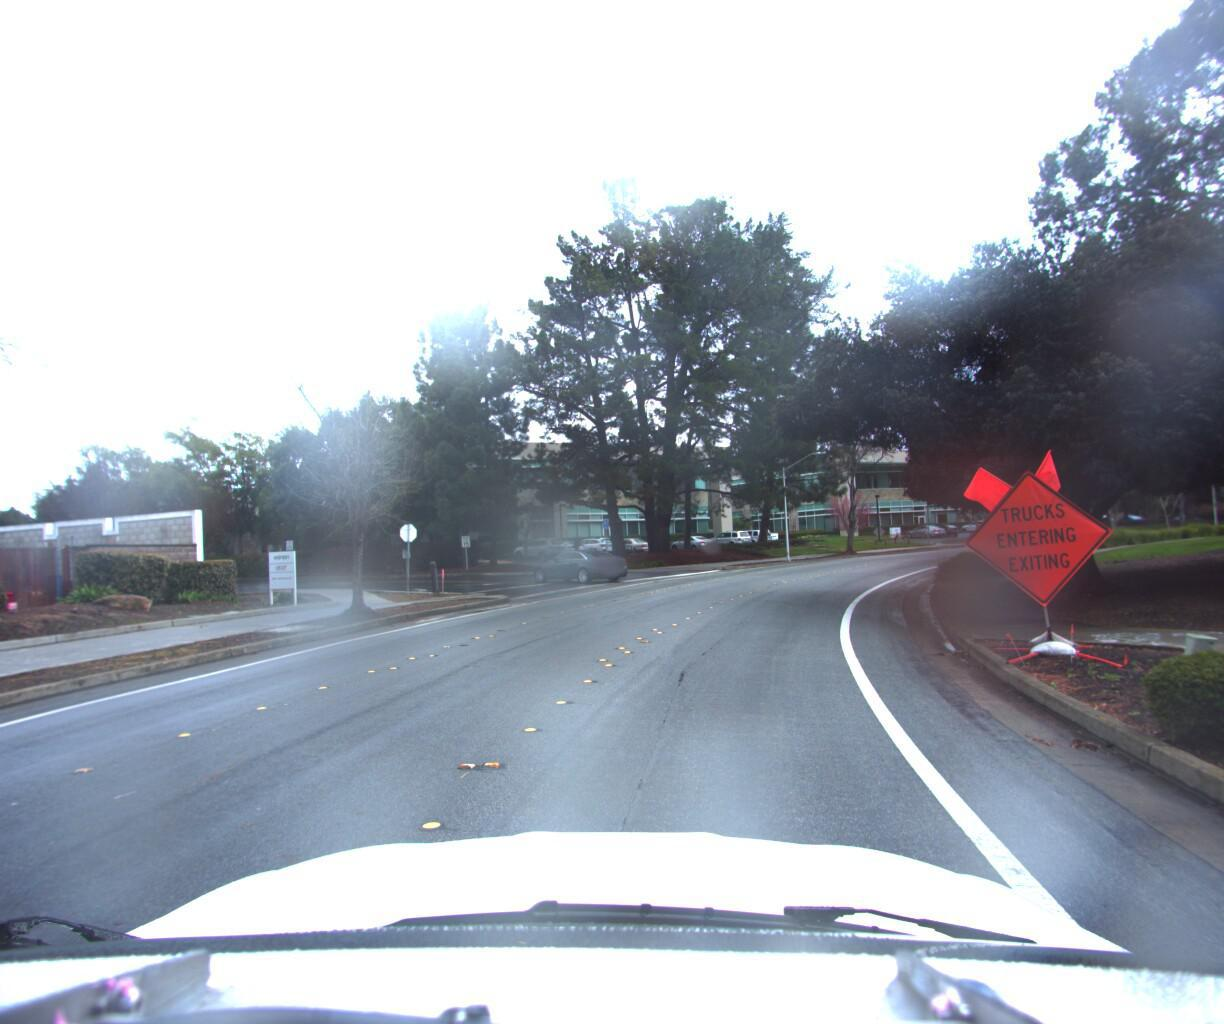car: (529, 536, 635, 581)
